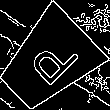P_SW: (18, 31, 79, 93)
